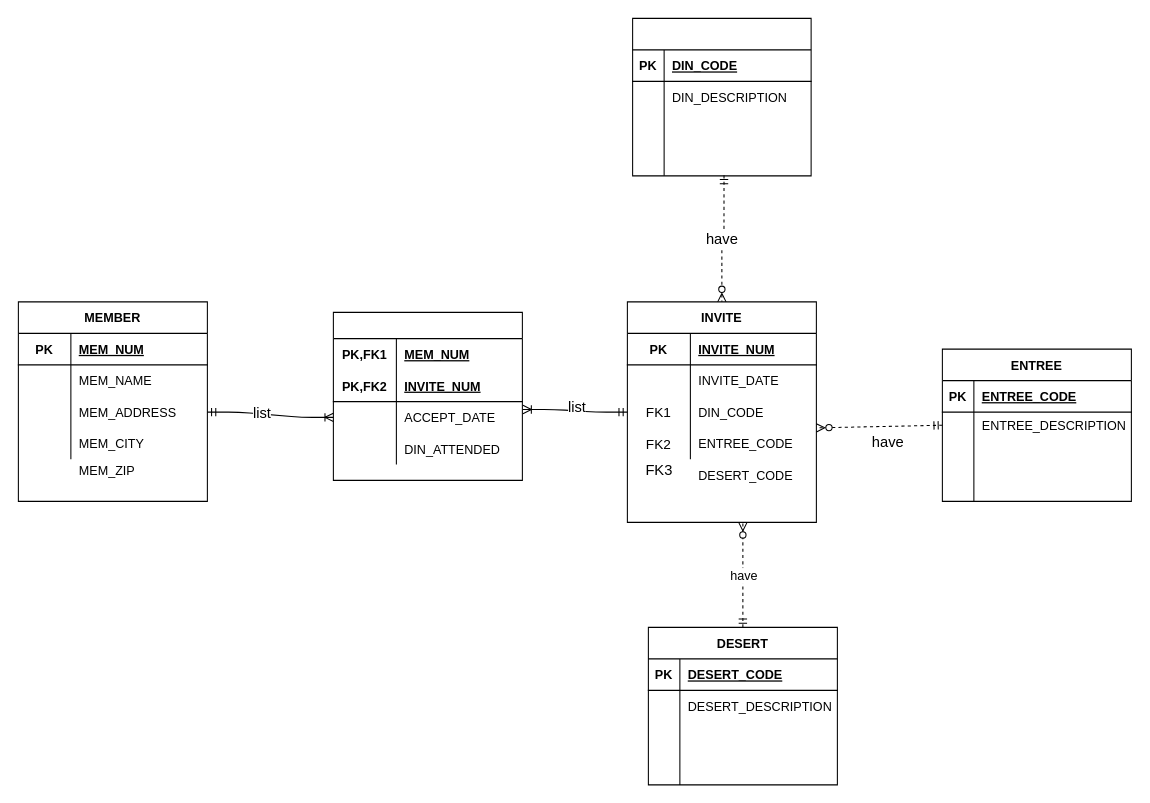
Image size: 1150x803. Some labels were removed from this diagram. The box of each missing label's shape, as (x1, y1, x2, y2) in pixels:
DINNER: (632, 17, 811, 176)
RECORD: (332, 311, 522, 480)
